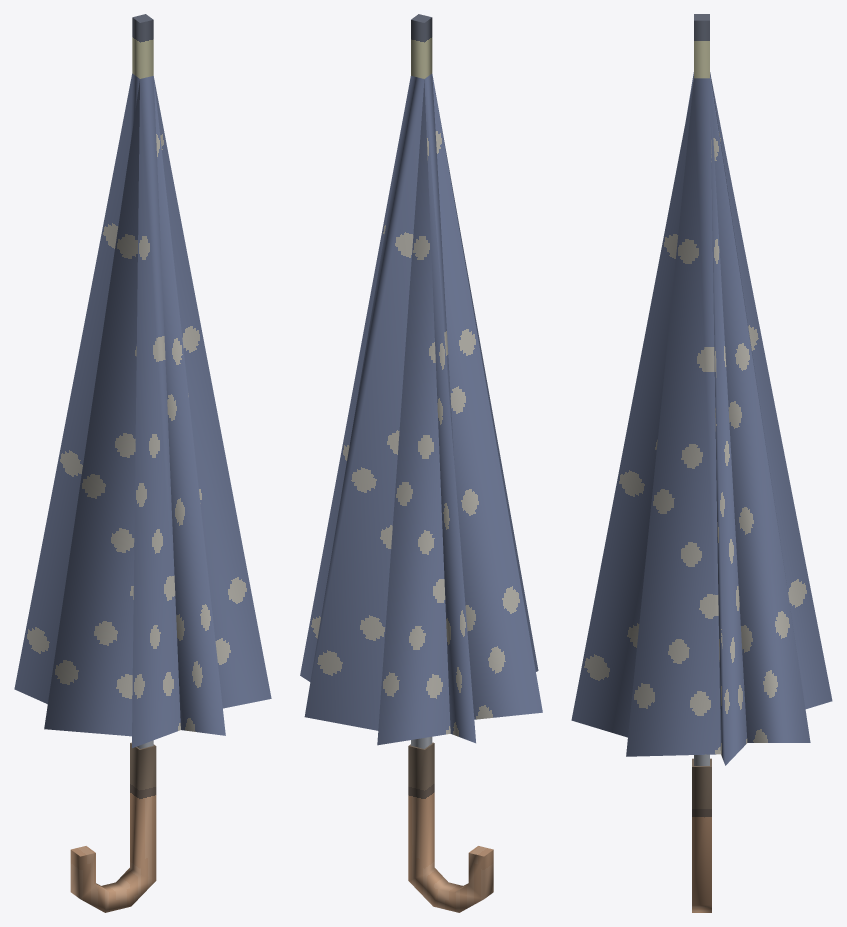
The model's file is 00bf_Polka_Dot_Umbrella.glb.
The picture shows the model from 3 angles, left to right: view 1: azimuth 30°, elevation 25°; view 2: azimuth 150°, elevation 25°; view 3: azimuth 270°, elevation 25°; orthographic projection. The views are drawn at different scales.
Visible parts, largest first — view 1: part_0; view 2: part_0; view 3: part_0.
Boxes of the visible parts, x1,y1,x2,y2 form: part_0: (14,14,271,912); part_0: (300,14,542,912); part_0: (571,14,832,912).
Bounding box in the file's own units: 0.3238 × 1.24 × 0.3239.
1 material, 1 textured.
